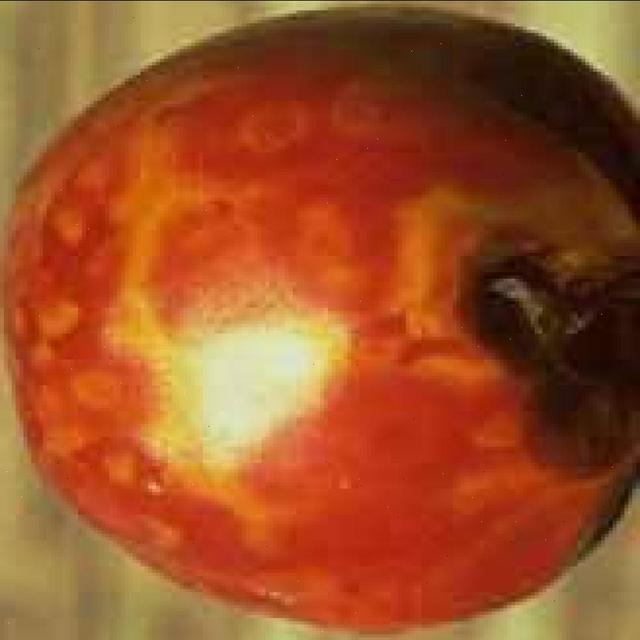Spotted wilt Virus Fruit: (213, 129, 640, 345)
